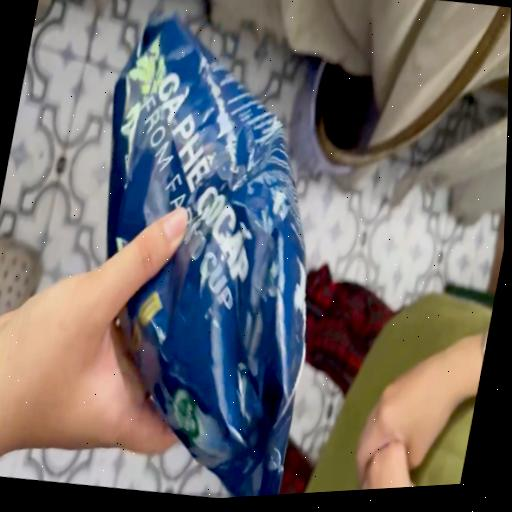cafe_hat: (106, 16, 305, 497)
